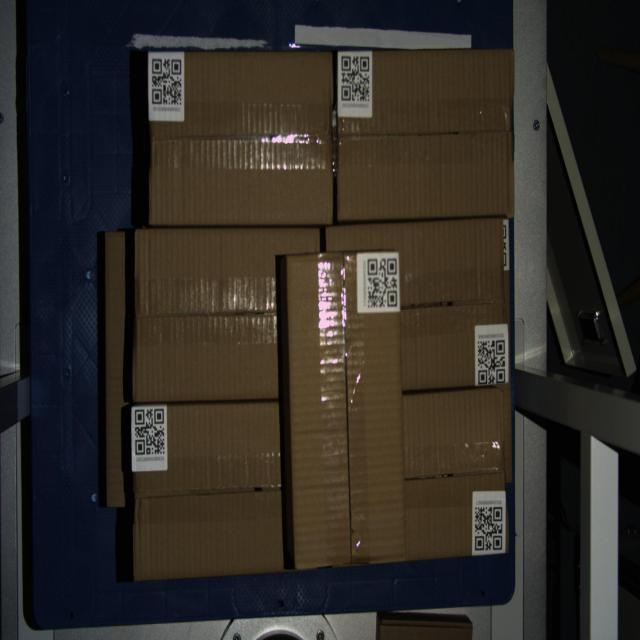box: (287, 250, 407, 570), (149, 51, 333, 225), (337, 50, 515, 221)
